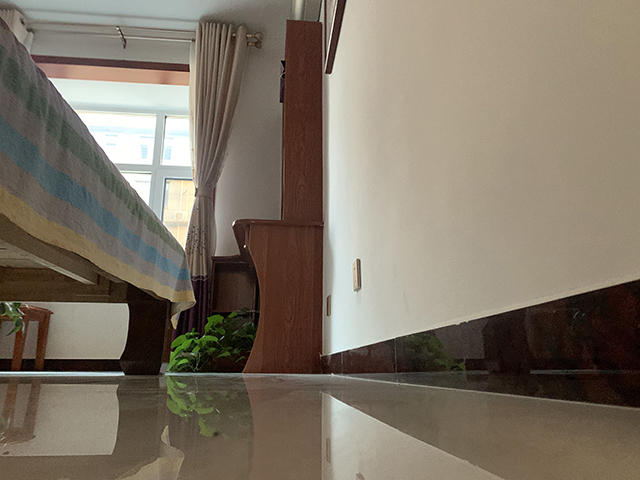bed: (1, 16, 196, 376)
cabinet: (208, 19, 324, 375)
curtain: (172, 18, 248, 345)
stool: (1, 302, 53, 372)
